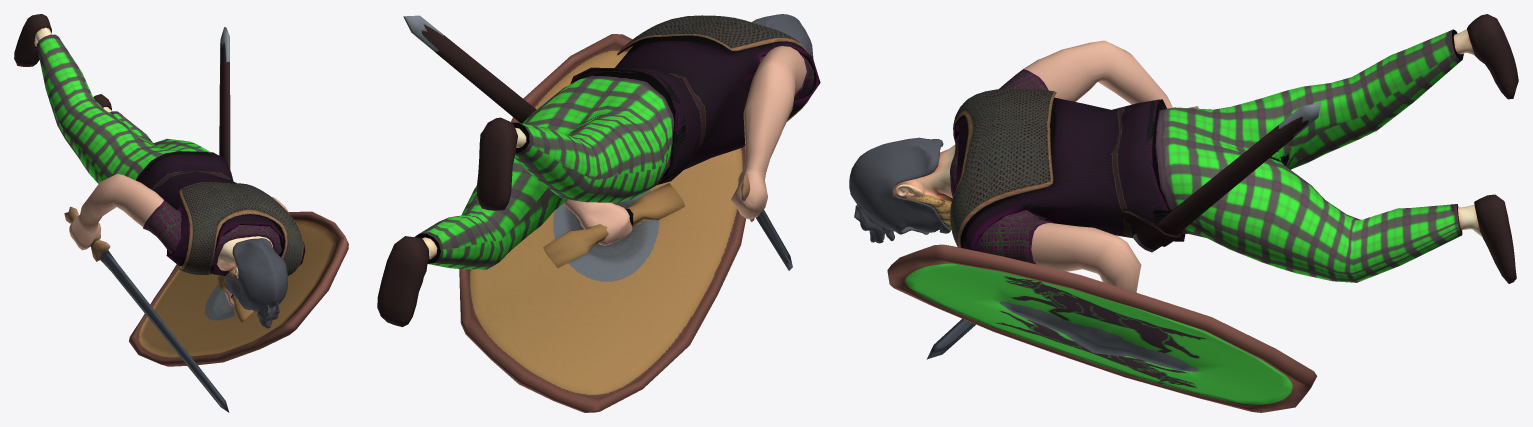
Rendered from warrior.gltf.
3 renders of one model, left to right at view 1: azimuth 30°, elevation 25°; view 2: azimuth 150°, elevation 25°; view 3: azimuth 270°, elevation 25°, orthographic. The views are drawn at different scales.
Parts seen in each view (by area): view 1: schild.002, Hose_lp.002, lp_schulterschutz.002, LP.002, helm_lp.002, arme_lp.002, schwert.copy_lp.002, aermel.LP.applied.002, scheide.lp.002, schuhe.LP2.002, gesicht.002; view 2: schild.002, Hose_lp.002, LP.002, arme_lp.002, schuhe.LP2.002, lp_schulterschutz.002, scheide.lp.002, helm_lp.002, schwert.copy_lp.002, aermel.LP.applied.002; view 3: Hose_lp.002, schild.002, LP.002, lp_schulterschutz.002, arme_lp.002, helm_lp.002, scheide.lp.002, schuhe.LP2.002, aermel.LP.applied.002, gesicht.002, fuss.003, schwert.copy_lp.002.
Part boxes in pixels (x1,y1,x2,y2): schild.002: [129, 211, 348, 366]; Hose_lp.002: [36, 34, 210, 183]; lp_schulterschutz.002: [175, 182, 303, 278]; LP.002: [136, 151, 305, 275]; helm_lp.002: [226, 238, 287, 328]; arme_lp.002: [69, 173, 289, 306]; schwert.copy_lp.002: [64, 206, 229, 412]; aermel.LP.applied.002: [143, 200, 282, 268]; scheide.lp.002: [219, 27, 230, 169]; schuhe.LP2.002: [14, 14, 111, 110]; gesicht.002: [217, 236, 271, 278]; schild.002: [459, 34, 745, 412]; Hose_lp.002: [414, 71, 675, 269]; LP.002: [570, 35, 820, 184]; arme_lp.002: [539, 46, 806, 245]; schuhe.LP2.002: [377, 117, 517, 326]; lp_schulterschutz.002: [617, 15, 813, 121]; scheide.lp.002: [403, 15, 536, 123]; helm_lp.002: [752, 14, 813, 58]; schwert.copy_lp.002: [741, 173, 792, 270]; aermel.LP.applied.002: [628, 52, 814, 99]; Hose_lp.002: [1152, 29, 1463, 282]; schild.002: [887, 244, 1316, 412]; LP.002: [954, 97, 1185, 250]; lp_schulterschutz.002: [950, 89, 1056, 247]; arme_lp.002: [1023, 40, 1172, 292]; helm_lp.002: [849, 137, 950, 243]; scheide.lp.002: [1121, 103, 1320, 252]; schuhe.LP2.002: [1467, 14, 1518, 283]; aermel.LP.applied.002: [950, 69, 1053, 264]; gesicht.002: [893, 144, 955, 230]; fuss.003: [1453, 29, 1482, 237]; schwert.copy_lp.002: [926, 106, 1198, 359].
Size of the model in its own units: 1.05 by 1.33 by 2.09.
